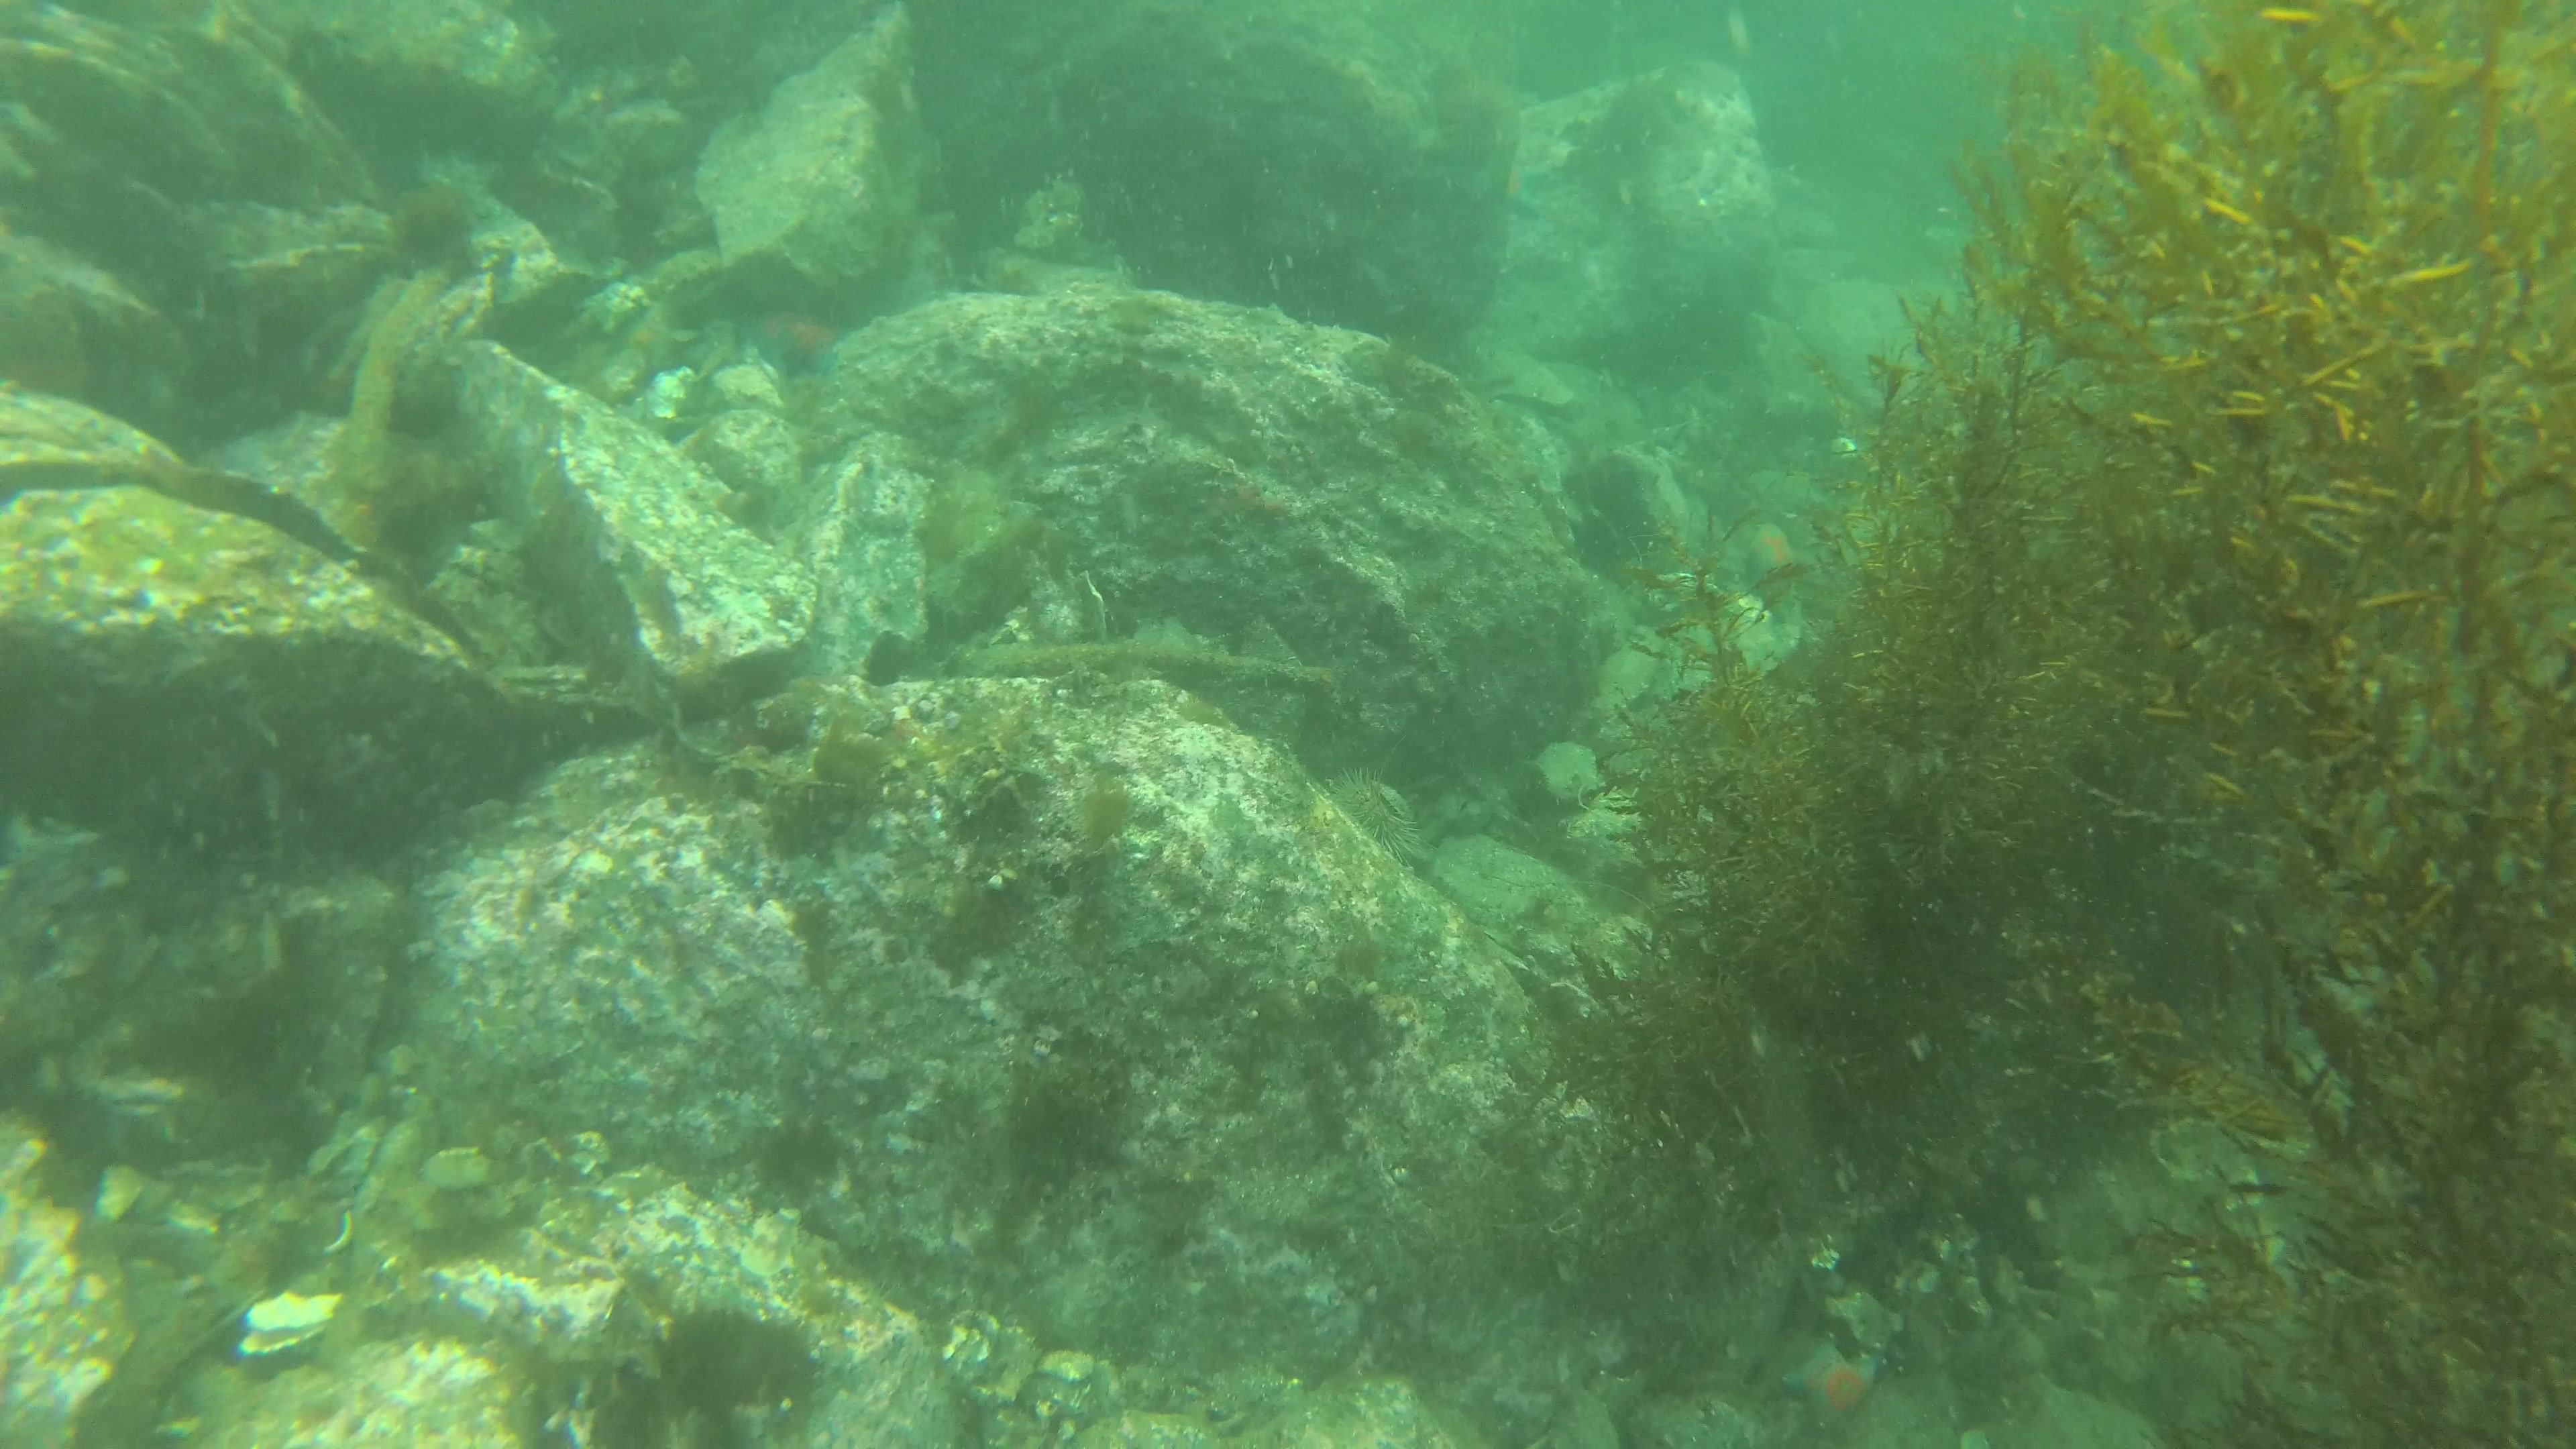echinus: (1313, 754, 1408, 856)
scallop: (237, 1283, 361, 1369)
starfish: (1780, 1322, 1893, 1440), (736, 288, 840, 386), (1736, 502, 1812, 614)
